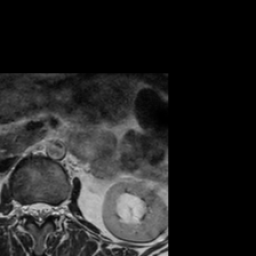CCS_normal: (34, 193, 43, 233)
LFS_normal: (51, 194, 60, 224)
LLS_normal: (43, 193, 52, 224)
RFS_normal: (18, 195, 26, 224)
RLS_normal: (26, 193, 34, 224)
